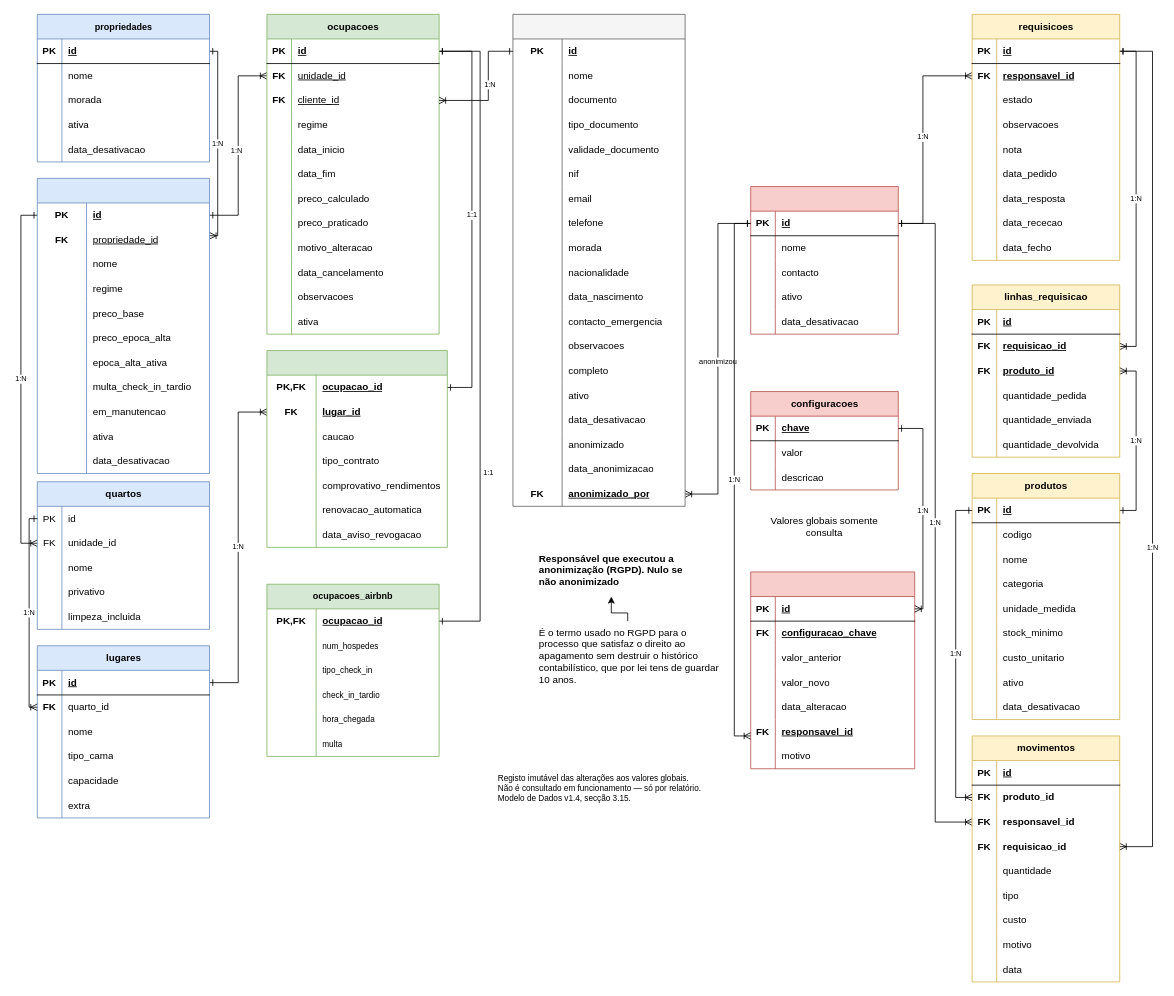
This 1174x996 diagram has some shape labels left out. The shapes that lost their labels are listed below. From the top down, each one's box as (x1, y1, x2, y2) in pixels, then its label:
(512, 14, 685, 506): clientes
(750, 186, 898, 334): responsaveis
(36, 178, 210, 474): unidades
(266, 350, 447, 547): ocupacoes_mensal
(750, 571, 915, 769): configuracoes_historico
